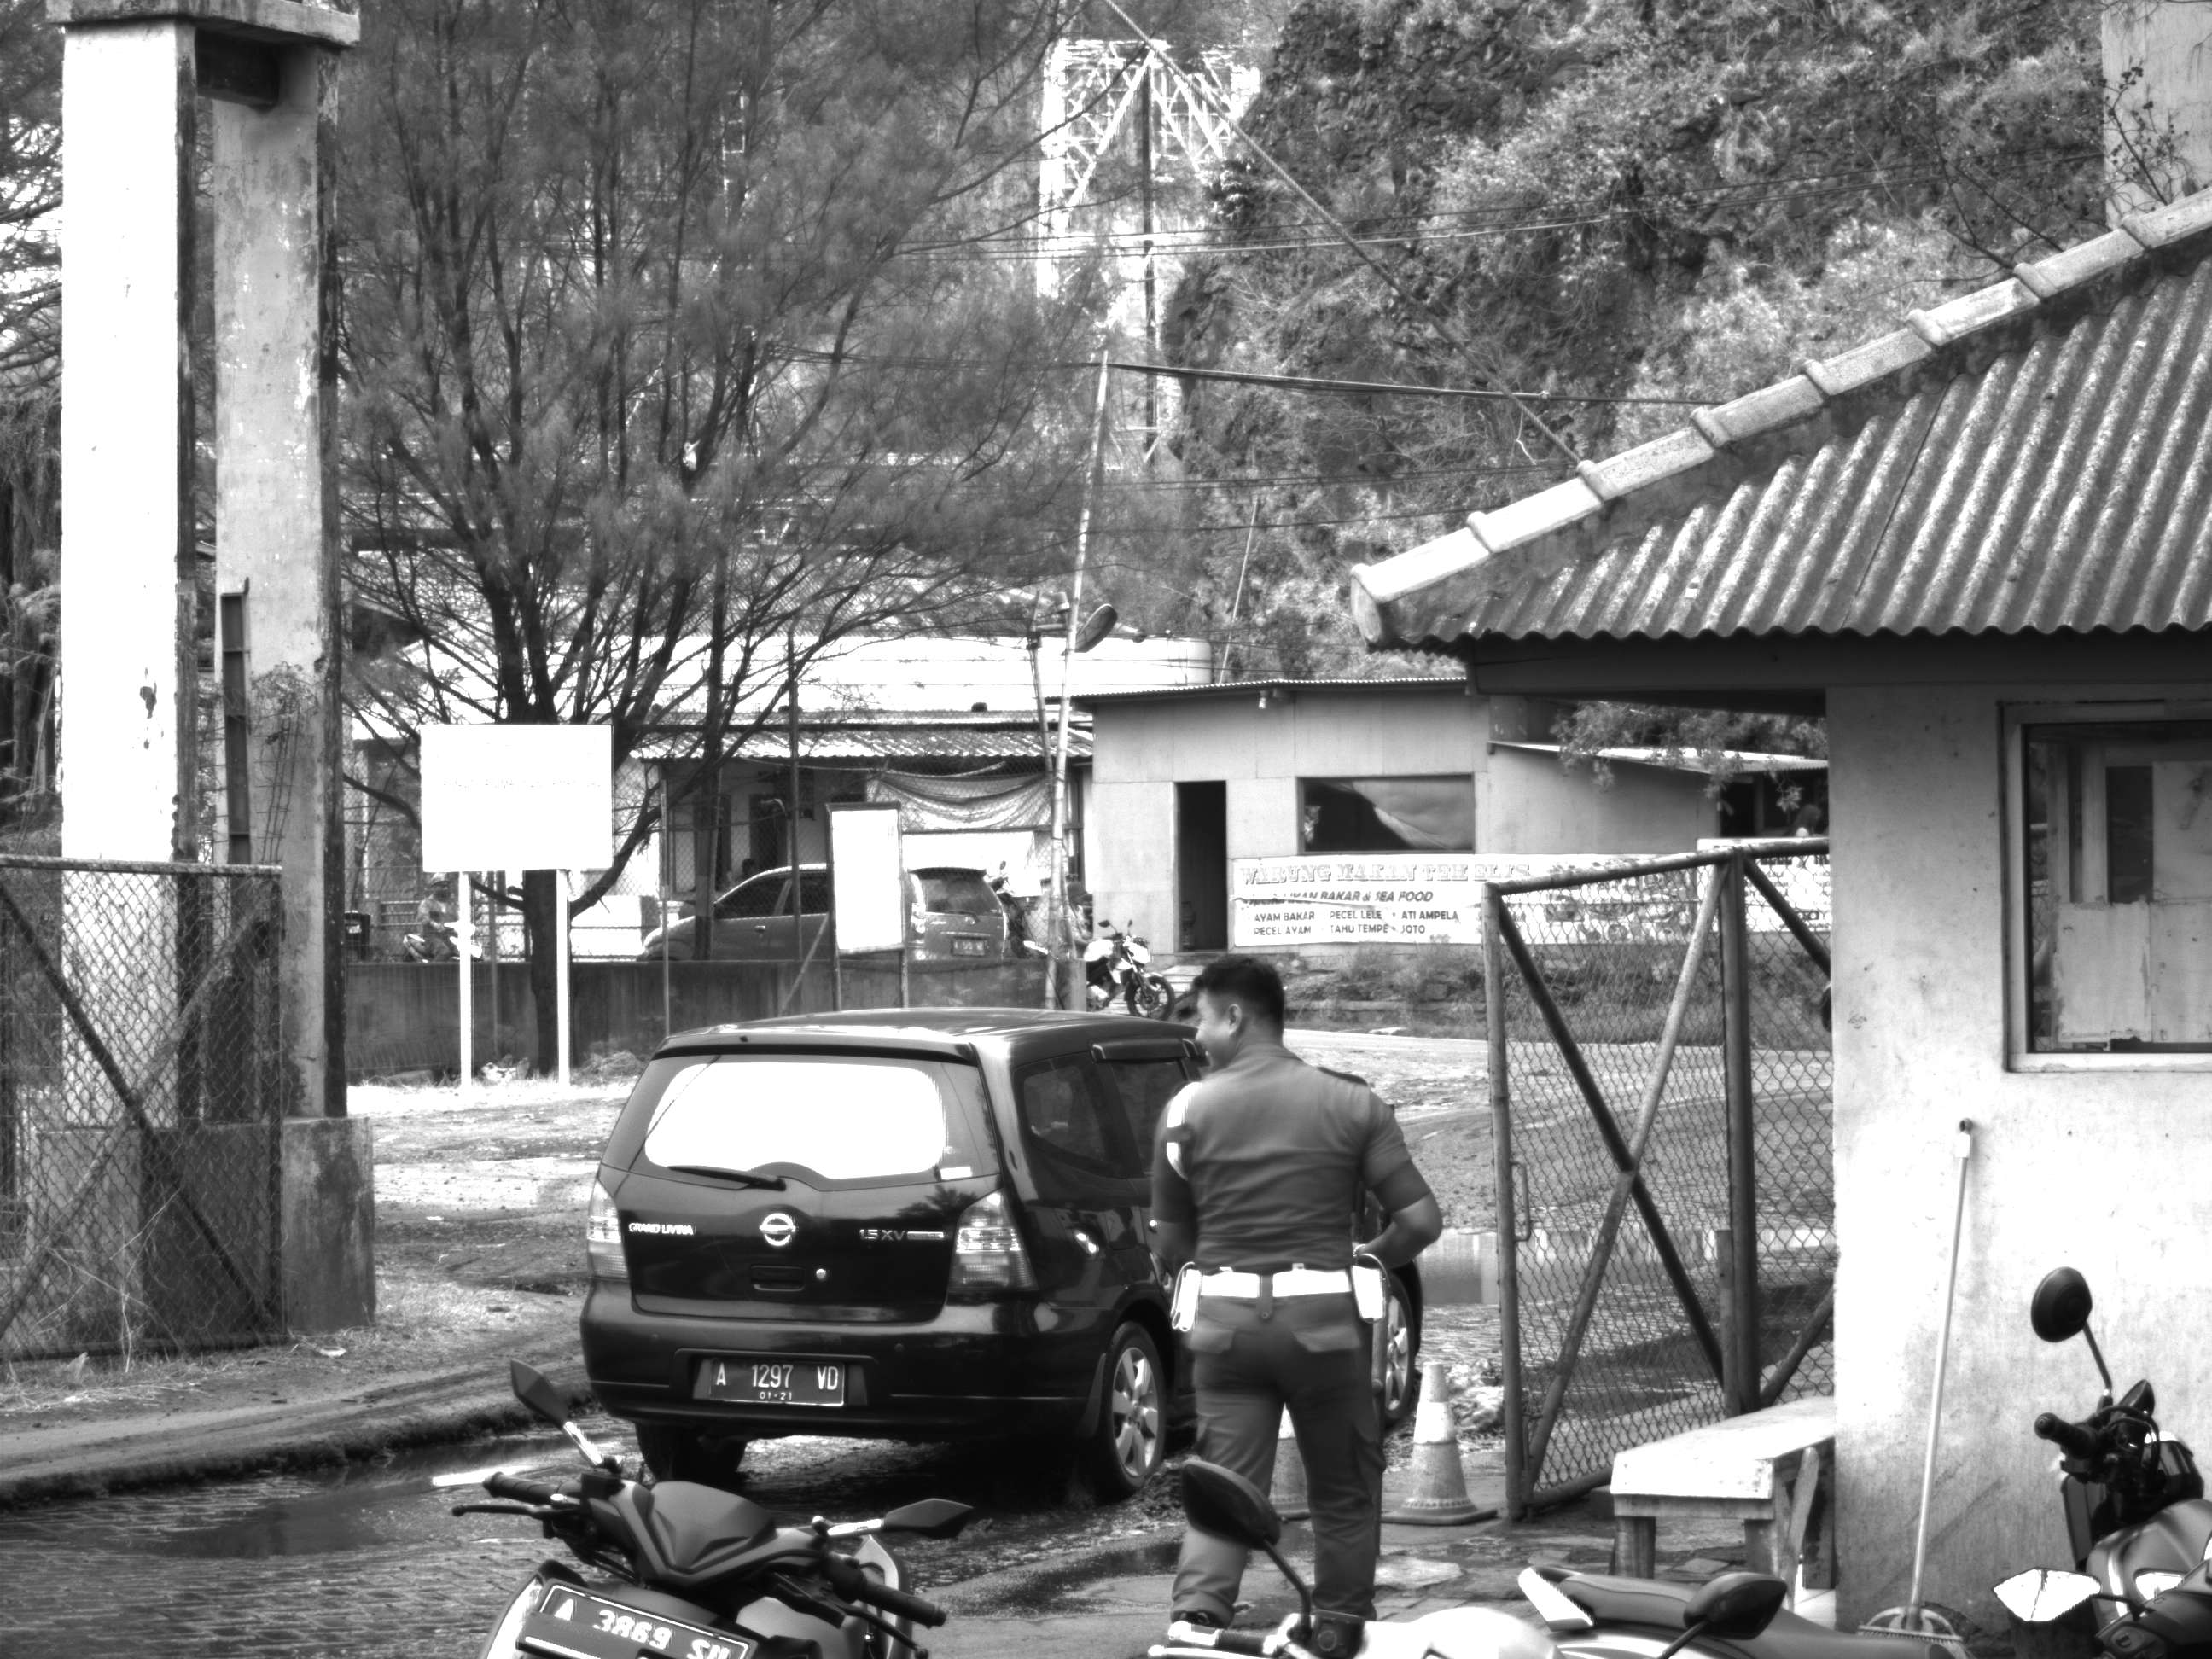day_small_rear: (571, 1003, 1161, 1495)
plate: (704, 1349, 855, 1401)
